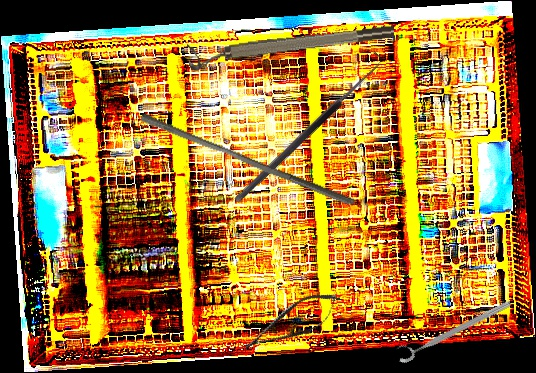Fixation Ring: (187, 21, 396, 72), (392, 291, 514, 366)
Hook Surgical: (227, 50, 386, 204)
Micro Scissor: (233, 282, 348, 365)
Pusher: (137, 112, 359, 207)
